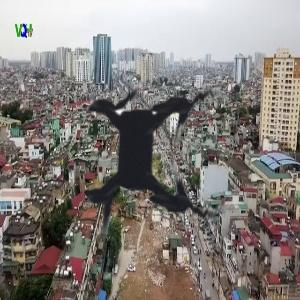drone: (4, 6, 298, 300)
